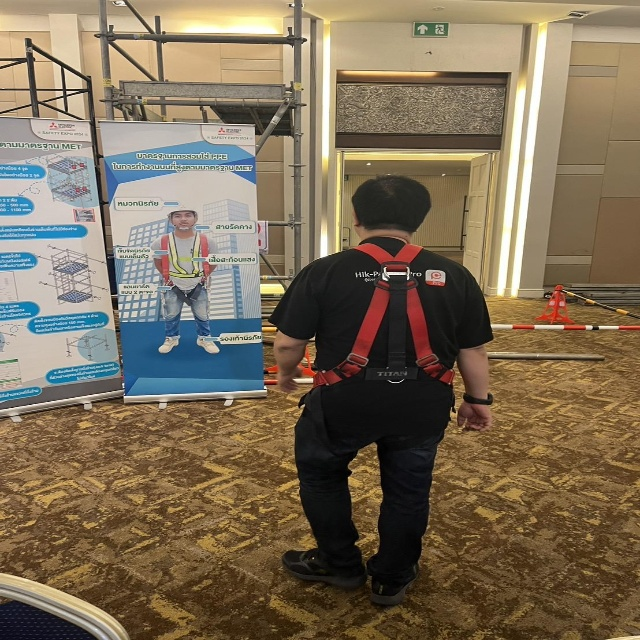Arnes_seguridad: (314, 239, 463, 404)
